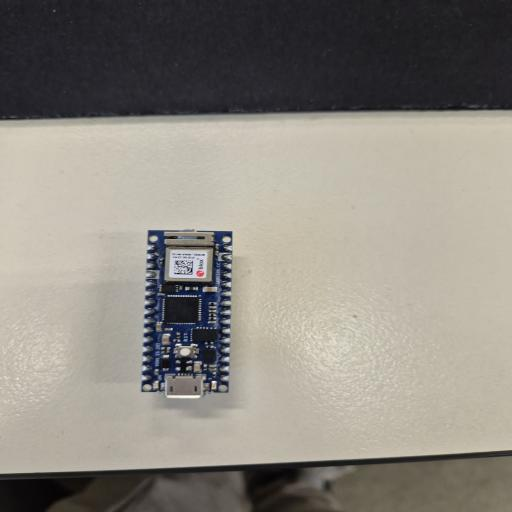arduino-nano-iot-33: (144, 228, 230, 394)
